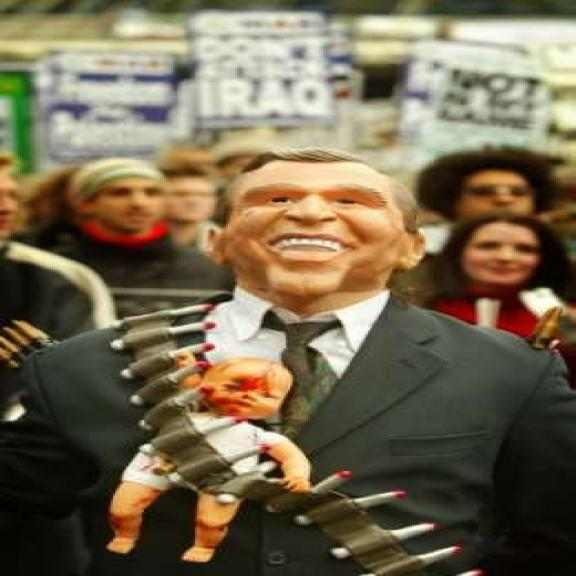face: (445, 222, 539, 285), (83, 178, 160, 228), (454, 174, 534, 220), (168, 173, 224, 223)
